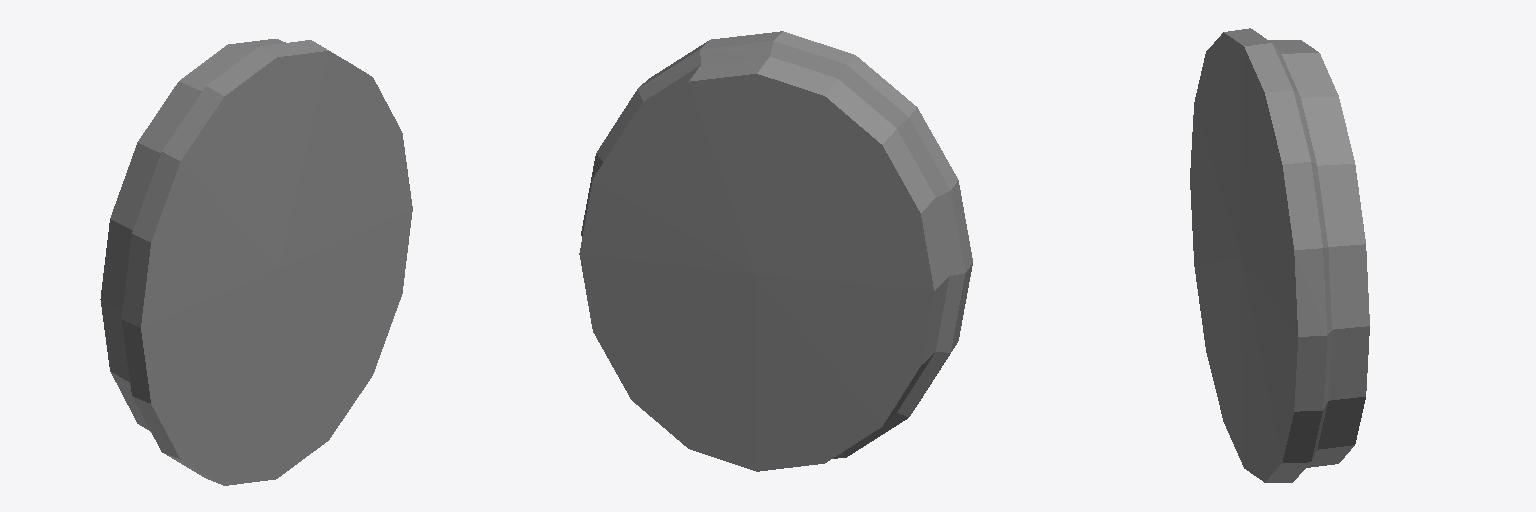
File: LlantaIzq8.obj
3 views of the same model, side by side, from view 1: azimuth 30°, elevation 25°; view 2: azimuth 150°, elevation 25°; view 3: azimuth 270°, elevation 25° (orthographic).
Parts seen in each view (by area): view 1: LlantaIzq8; view 2: LlantaIzq8; view 3: LlantaIzq8.
Boxes of the visible parts, box(x1,y1,x2,y2) form: LlantaIzq8: box(100, 39, 412, 485); LlantaIzq8: box(579, 31, 972, 471); LlantaIzq8: box(1190, 28, 1369, 482).
Bounding box in the file's own units: 0.2179 × 0.2666 × 0.1024.